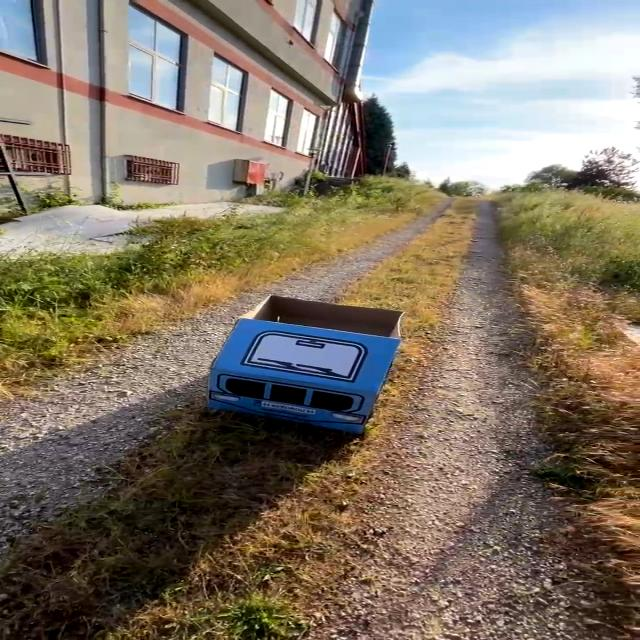blue_car: (121, 259, 471, 463)
